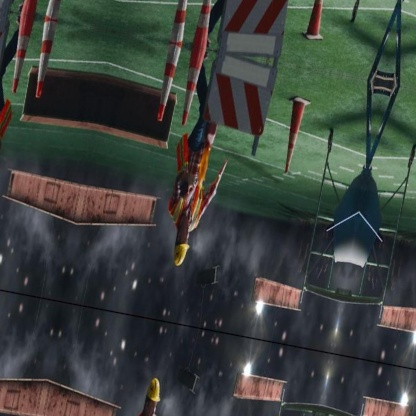vest: (159, 132, 220, 236)
yellow: (168, 237, 194, 272)
